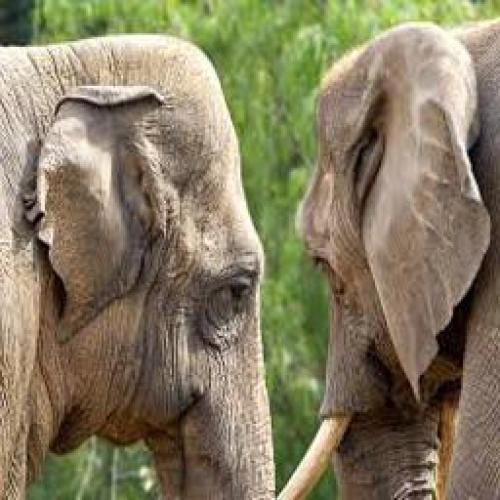african_elephant-endangered: (0, 40, 280, 500), (304, 25, 500, 500)
